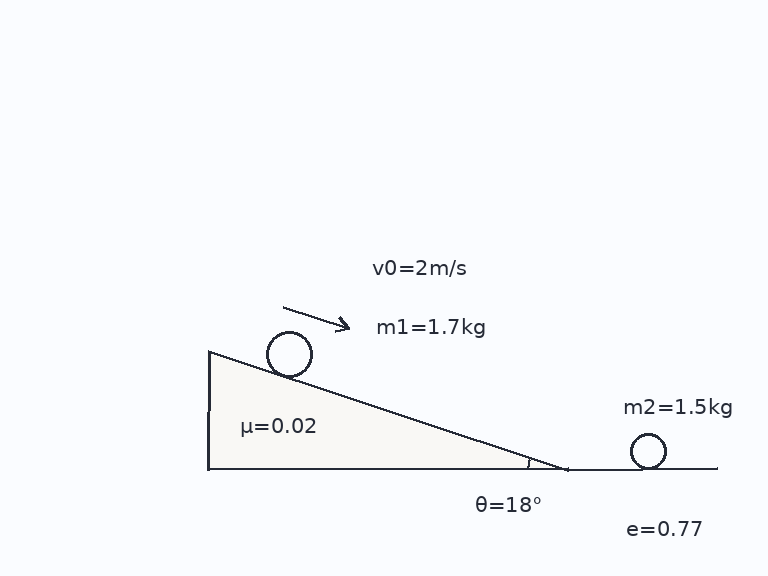ball: (264, 329, 314, 379), (628, 431, 668, 471)
ramp: (206, 350, 570, 471)
